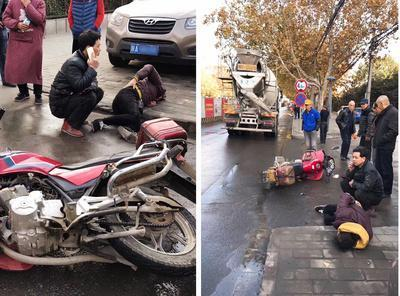Fall-Detected: (309, 188, 377, 253)
